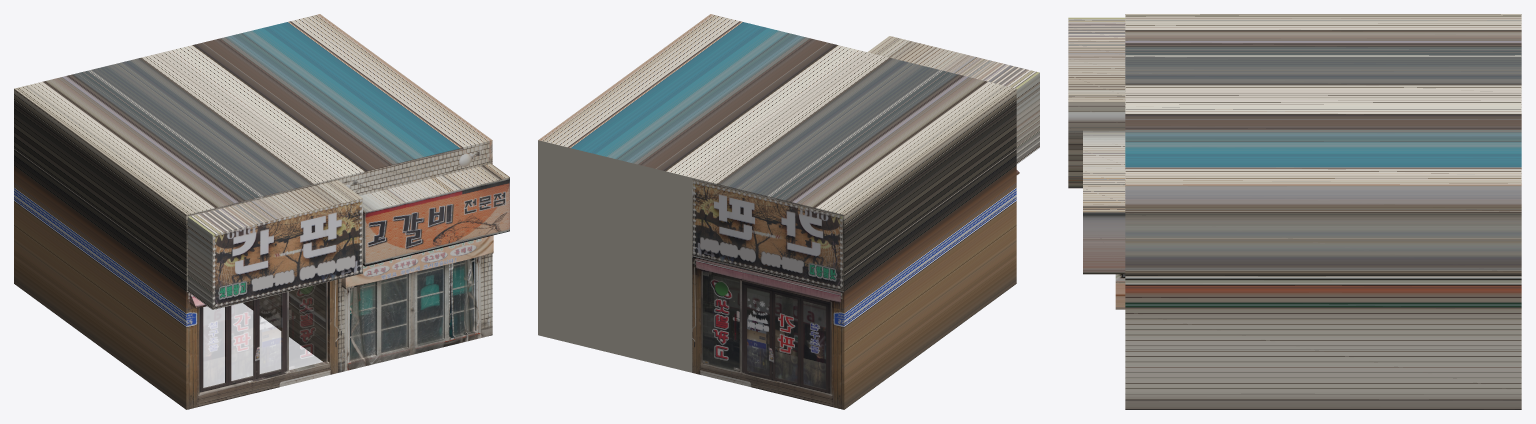
Rendered from EDIFICIO4.glb.
The picture shows the model from 3 angles, left to right: view 1: azimuth 30°, elevation 25°; view 2: azimuth 150°, elevation 25°; view 3: azimuth 270°, elevation 25°; orthographic projection. The views are drawn at different scales.
Visible parts, largest first — view 1: building-1-shop-4; view 2: building-1-shop-4; view 3: building-1-shop-4.
Boxes of the visible parts, box(x1,y1,x2,y2) form: building-1-shop-4: box(14, 14, 509, 409); building-1-shop-4: box(538, 14, 1039, 409); building-1-shop-4: box(1068, 14, 1521, 409).
Bounding box in the file's own units: 7.89 × 4.81 × 8.81.
Materials: 2 (2 with a texture image).
